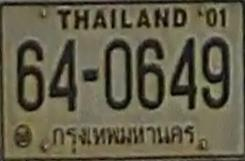0: (103, 38, 132, 109)
4: (48, 37, 76, 110), (169, 36, 196, 109)
6: (16, 38, 44, 110), (136, 38, 164, 108)
9: (200, 36, 228, 108)
BKK: (46, 118, 201, 153)
